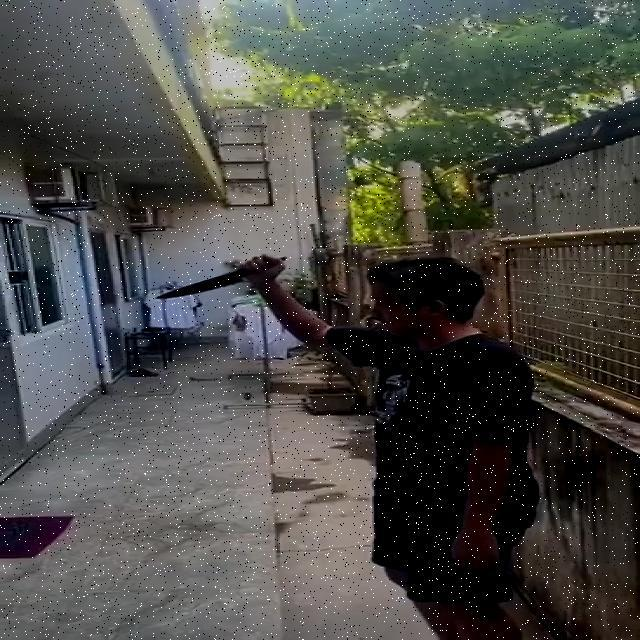knife: (153, 270, 260, 300)
non-violence: (156, 252, 546, 640)
